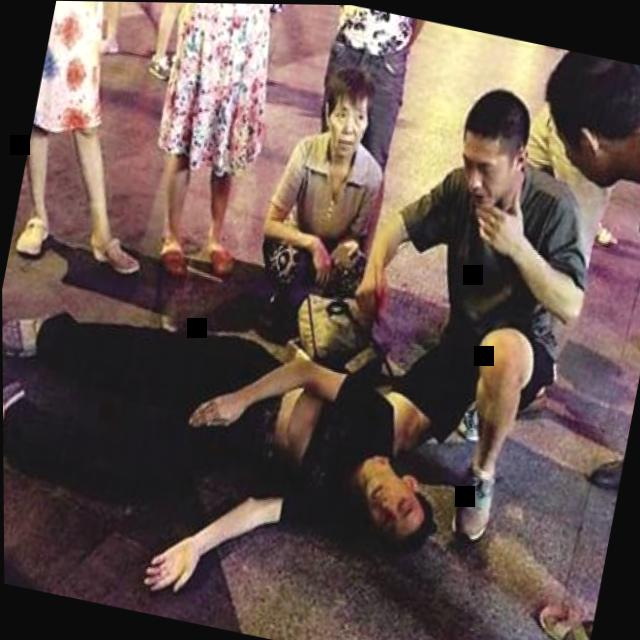Fall-Detected: (1, 208, 506, 640)
